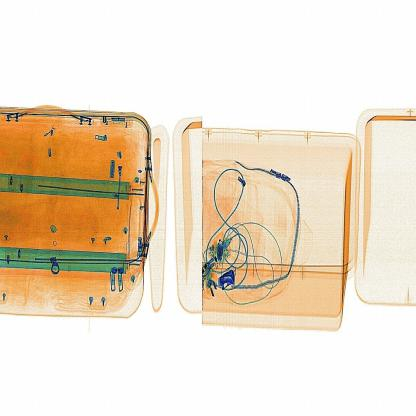knife: (218, 263, 250, 305)
